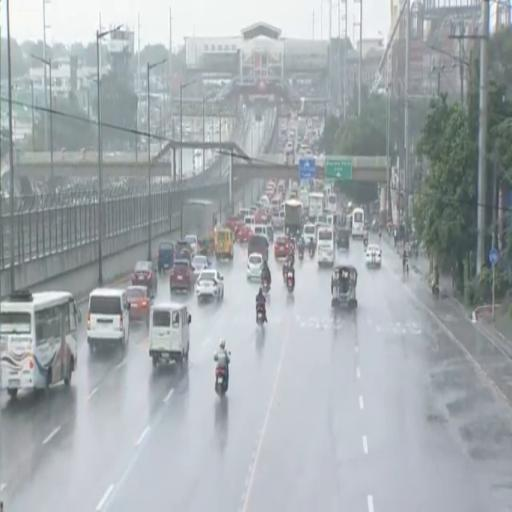bus: (0, 292, 81, 396), (180, 200, 218, 239), (352, 208, 364, 237), (325, 194, 336, 214)
car: (127, 286, 151, 324), (132, 262, 157, 296), (196, 269, 224, 299), (170, 260, 194, 294), (248, 235, 269, 260), (158, 242, 174, 273), (246, 253, 264, 280), (191, 255, 211, 276), (274, 236, 289, 259), (366, 245, 381, 267), (236, 224, 251, 243), (185, 235, 198, 254)
motorcycle: (215, 366, 227, 396), (256, 306, 265, 325), (286, 272, 294, 293), (262, 279, 269, 297), (432, 283, 439, 299), (283, 263, 288, 283), (309, 246, 315, 259), (299, 246, 303, 261), (363, 237, 368, 248)
truck: (182, 200, 218, 239), (285, 200, 302, 234), (309, 192, 324, 218)
